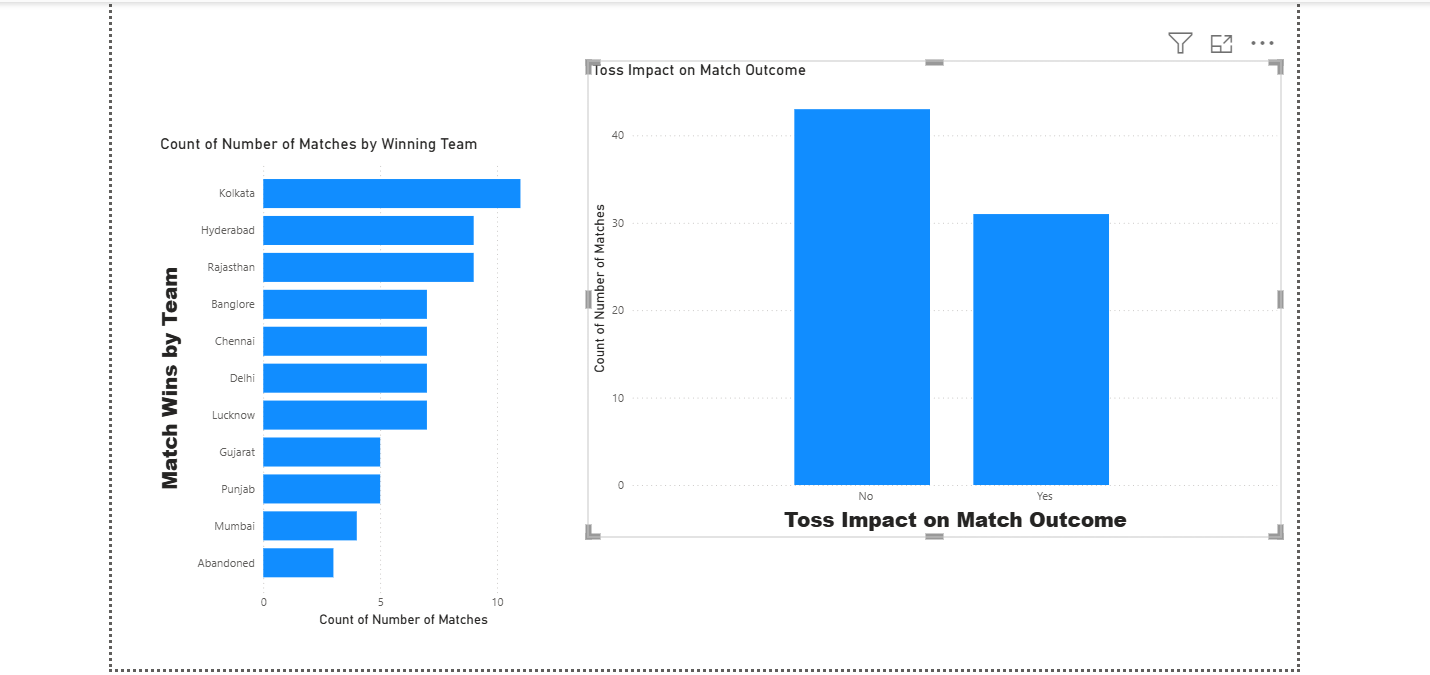

This screenshot's page, from the dashboard's own definition file:
{"tool":"powerbi","page":{"name":"Page 1","canvas":[1280,720],"ordinal":0},"visuals":[{"type":"barChart","fields":{"Y":["CountNonNull(ipl2024-Matches.Match Date)"],"Category":["ipl2024-Matches.Winning Team"]},"box":[47.2,141.7,430.9,536.7],"z":0},{"type":"columnChart","title":"\tToss Impact on Match Outcome","fields":{"Category":["ipl2024-Matches.TossImpact"],"Y":["CountNonNull(ipl2024-Matches.Match Date)"]},"box":[514,103.9,748.4,372.3],"z":1}]}

Visuals, with their boxes on the page's 1280x720 design canvas (x1, y1, x2, y2). These are canvas units, not pixel positions in the 1430x675 screenshot, which may show the page scaled, cropped or inside an application window:
barChart - CountNonNull(ipl2024-Matches.Match Date) x ipl2024-Matches.Winning Team: bbox(47, 142, 478, 678)
"	Toss Impact on Match Outcome" columnChart: bbox(514, 104, 1262, 476)
